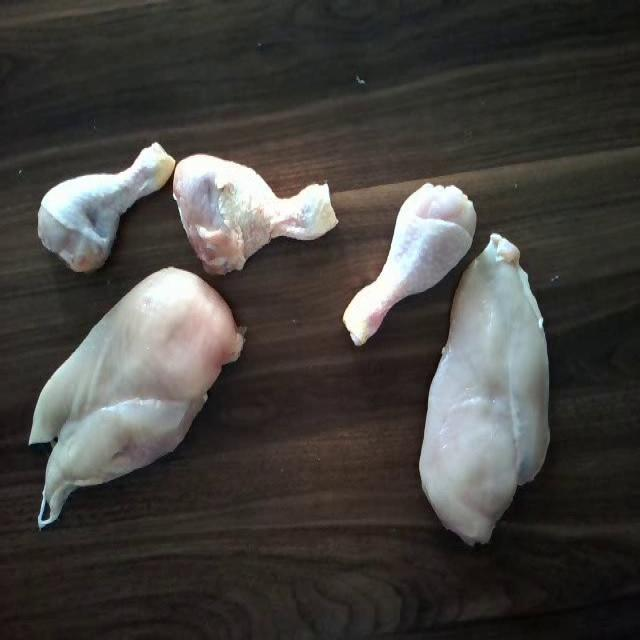breast: (38, 262, 248, 522), (426, 233, 555, 549)
leg: (339, 164, 481, 354), (166, 139, 346, 273), (33, 133, 172, 281)
